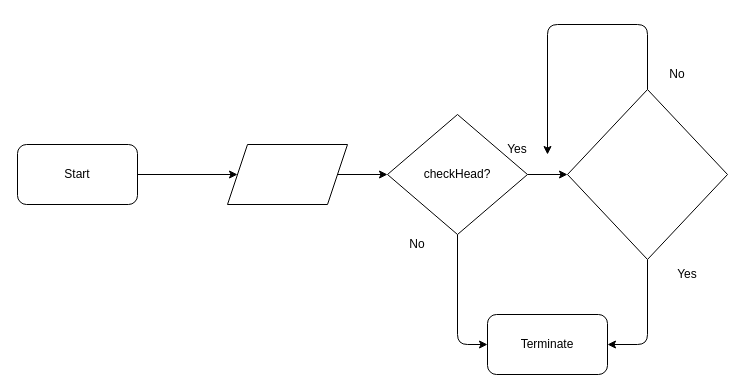
Image size: 745x392. Some labels were removed from this diagram. The shapes that lost their labels are listed below. From the top down, each one's centre as x and y in pixels, then its label:
[287,174]: nodeValue
[647,174]: if nodeValue = currentNode
